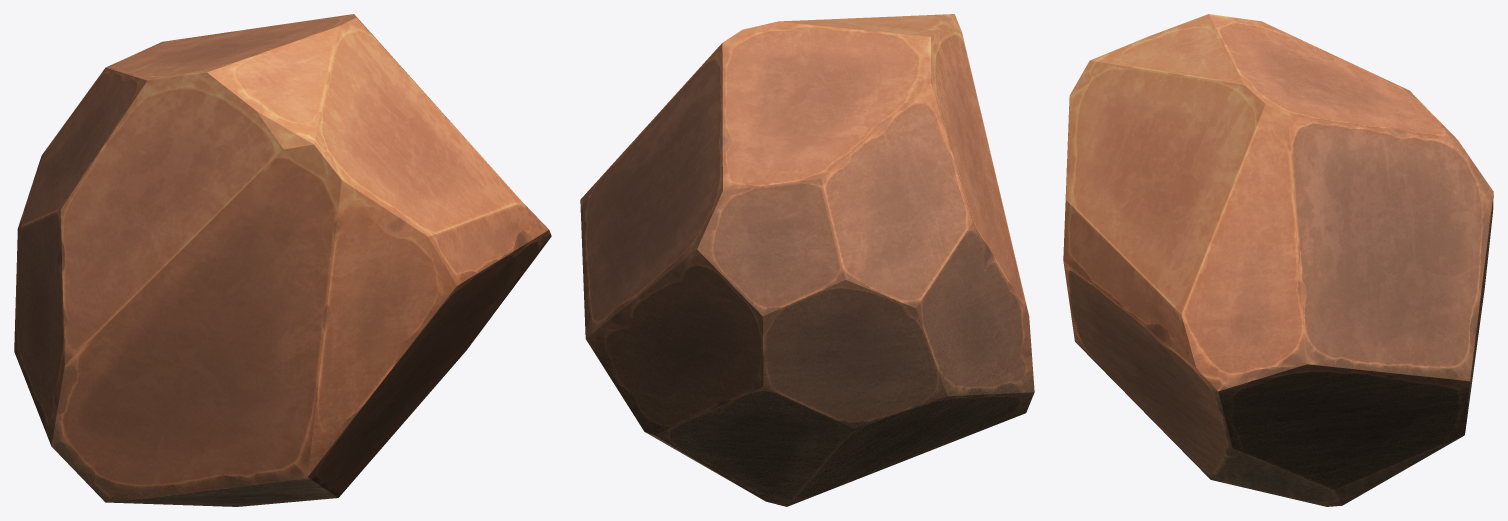
Rendered from M_rocks_01.glb.
3 renders of one model, left to right at view 1: azimuth 30°, elevation 25°; view 2: azimuth 150°, elevation 25°; view 3: azimuth 270°, elevation 25°, orthographic. The views are drawn at different scales.
Visible parts, largest first — view 1: M_Rock_01; view 2: M_Rock_01; view 3: M_Rock_01.
Boxes of the visible parts, <box> form: M_Rock_01: <box>14,14,551,506</box>; M_Rock_01: <box>580,14,1034,506</box>; M_Rock_01: <box>1063,14,1493,506</box>.
Bounding box in the file's own units: 1.76 × 1.75 × 1.52.
1 material, 1 textured.
